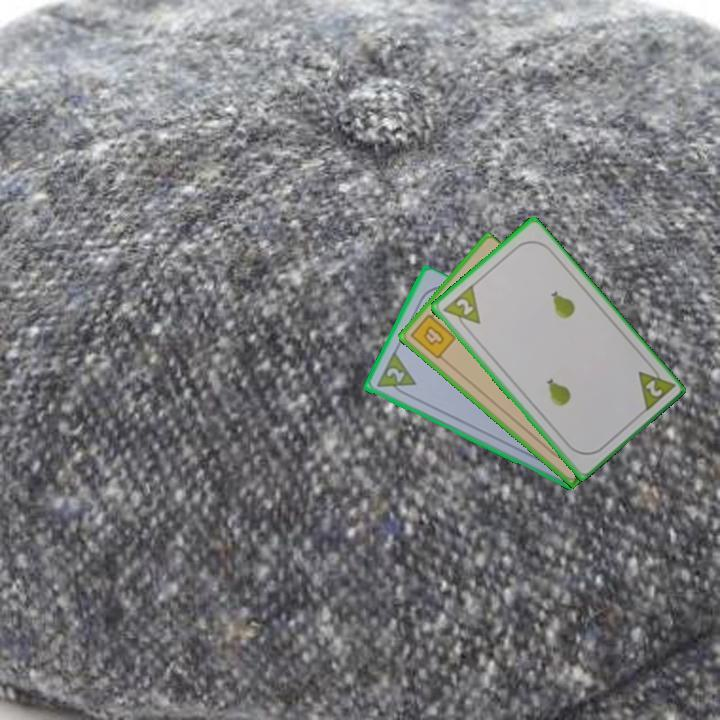2p: (372, 349, 419, 400), (439, 282, 483, 335), (634, 360, 676, 415)
4b: (407, 307, 459, 362)
